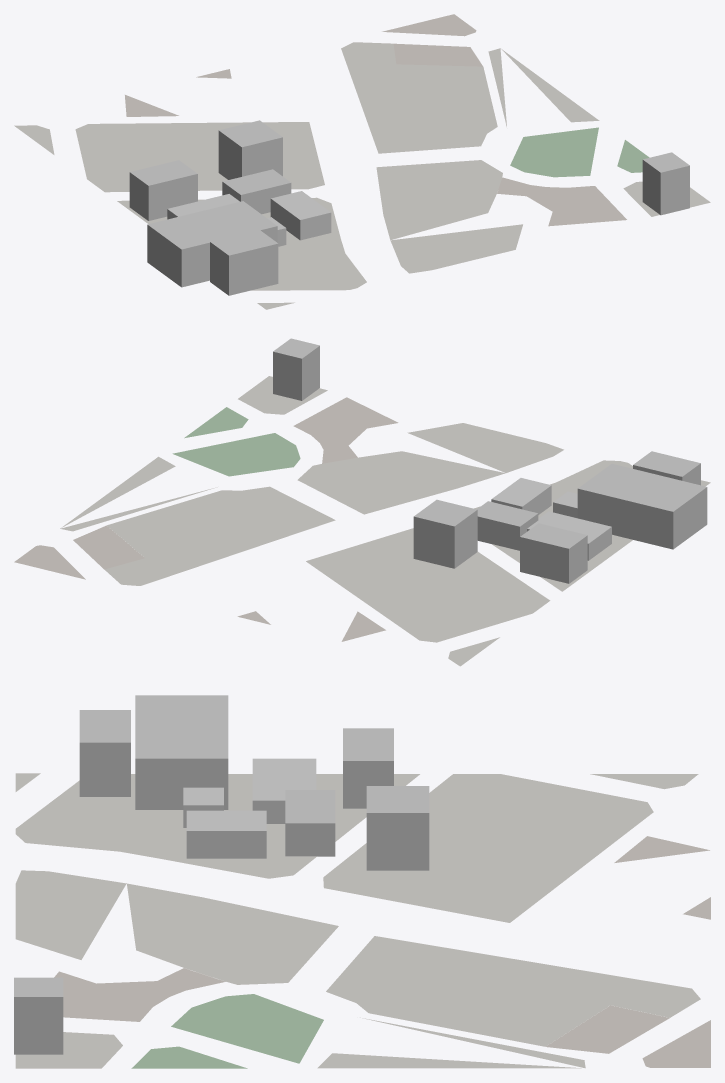
File: 104_91_mid.glb
3 views of the same model, one above another, from view 1: azimuth 30°, elevation 25°; view 2: azimuth 150°, elevation 25°; view 3: azimuth 270°, elevation 25° (orthographic). The views are drawn at different scales.
Size of the model in its own units: 546 by 46.41 by 501.
